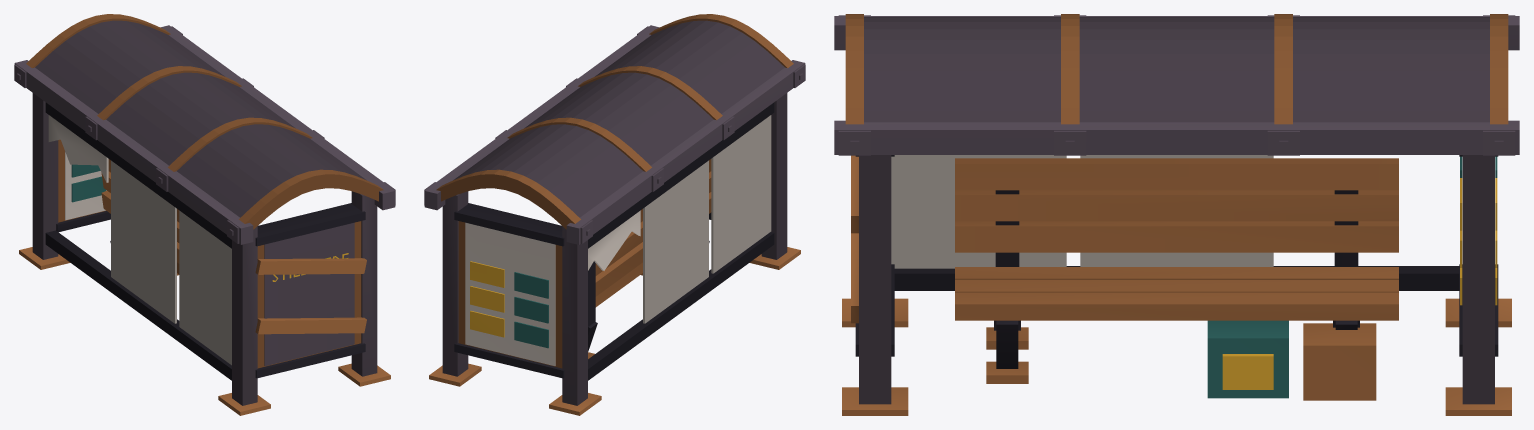
Rendered from bld.bus-stop.w2.lod1.glb.
3 renders of one model, left to right at view 1: azimuth 30°, elevation 25°; view 2: azimuth 150°, elevation 25°; view 3: azimuth 270°, elevation 25°, orthographic. The views are drawn at different scales.
Parts seen in each view (by area): view 1: body, roof; view 2: body, roof; view 3: body, roof.
Part boxes in pixels (x1,y1,x2,y2): body: (19, 93, 390, 415); roof: (14, 14, 395, 244); body: (429, 93, 800, 415); roof: (424, 14, 805, 244); body: (842, 155, 1511, 415); roof: (834, 14, 1519, 155).
Bounding box in the file's own units: 2.04 × 2.68 × 4.97.
